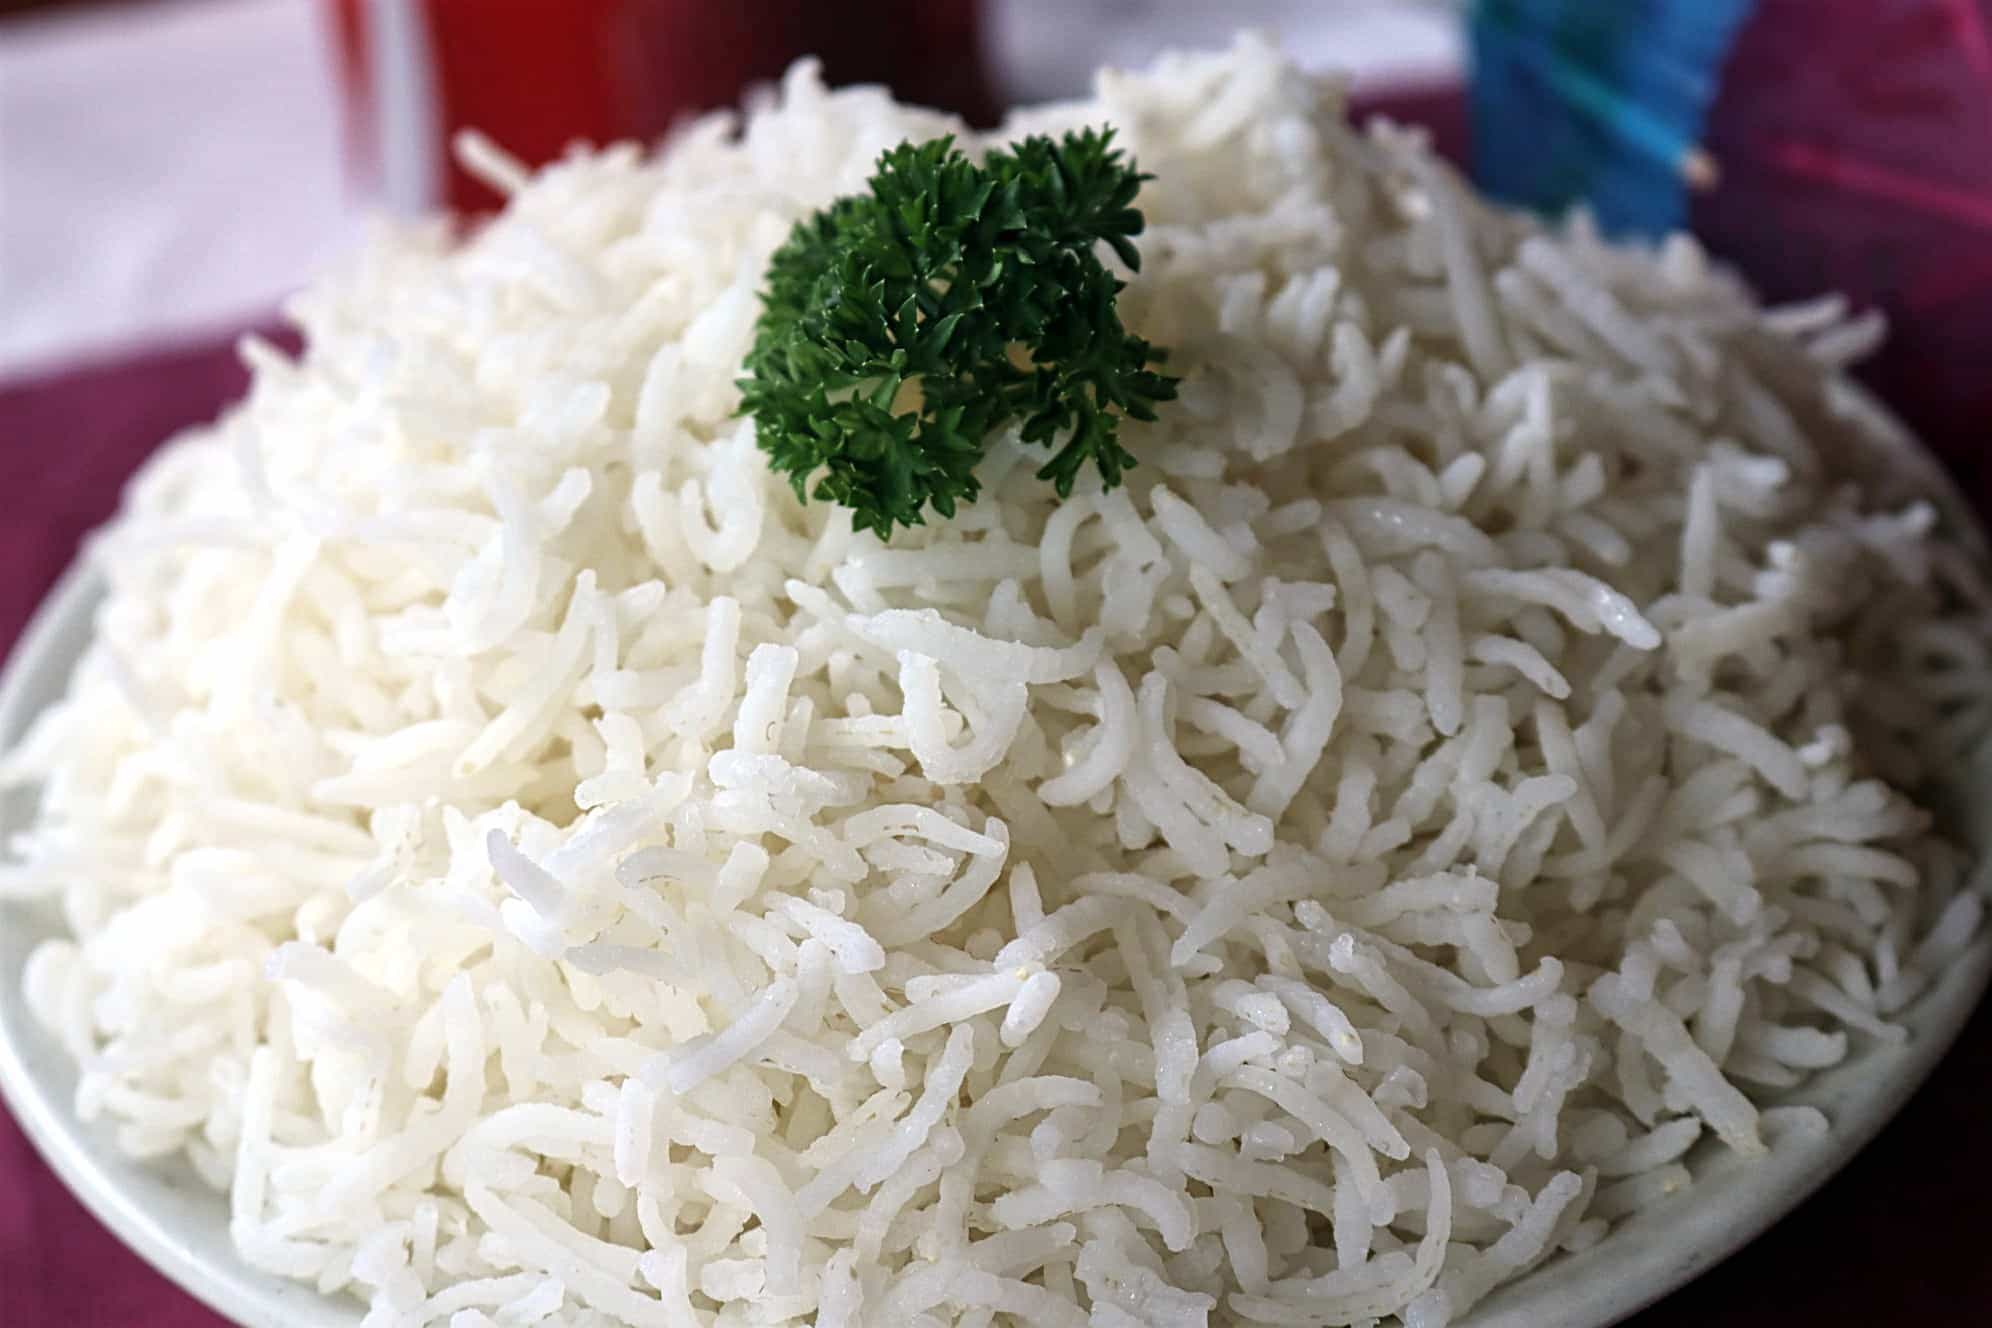plain rice: (165, 139, 1865, 1312)
